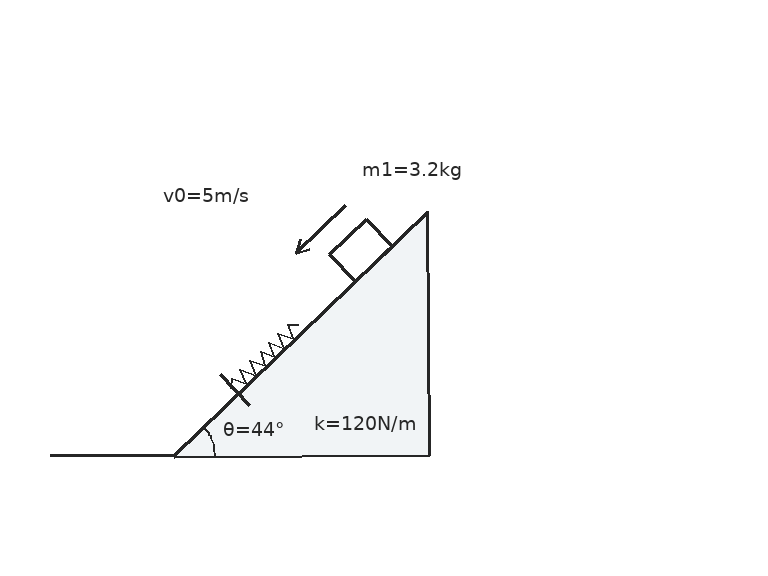block: (327, 217, 394, 283)
ramp: (173, 209, 429, 457)
spring: (230, 322, 300, 390)
